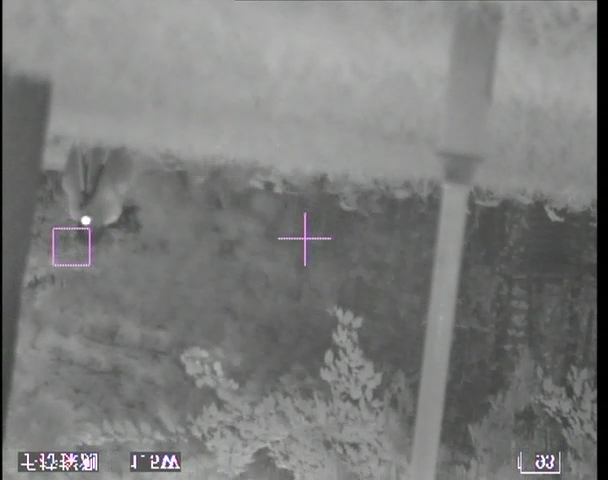my: (77, 214, 92, 228)
